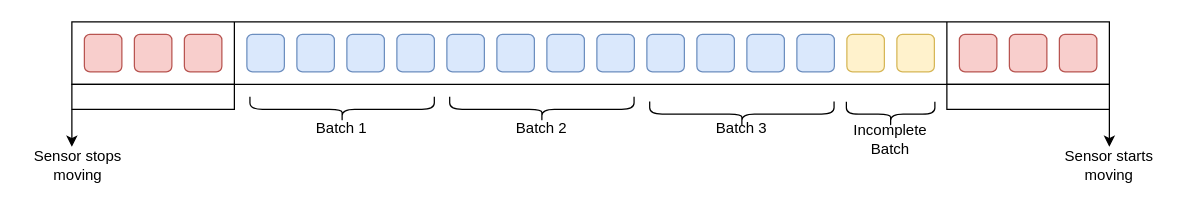
This 1186x206 diagram has some shape labels left out. Here are the shapes that lost their labels. From the top down, the box of each, then its label:
(71, 83, 234, 109): drop first messages
(946, 83, 1109, 109): drop last messages
